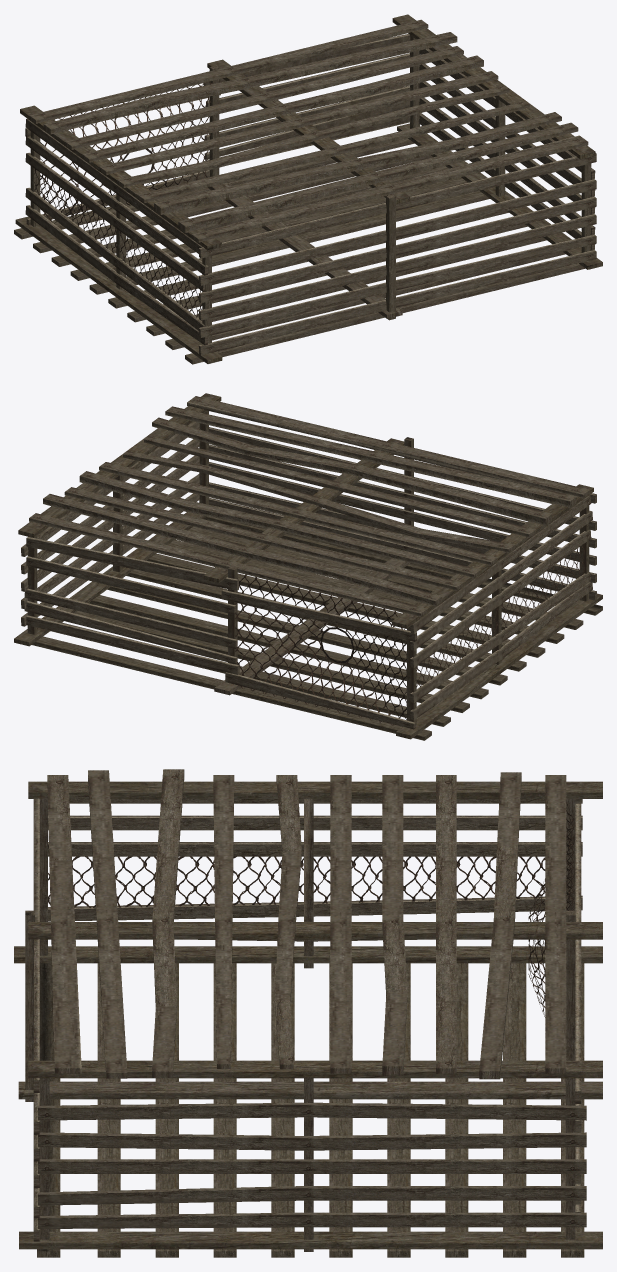
Rendered from lobser_trap_b.FBX.
3 renders of one model, top to bottom at view 1: azimuth 30°, elevation 25°; view 2: azimuth 150°, elevation 25°; view 3: azimuth 270°, elevation 25°, orthographic. The views are drawn at different scales.
Visible parts, largest first — view 1: lobser_trap_b; view 2: lobser_trap_b; view 3: lobser_trap_b.
Boxes of the visible parts, x1=… form: lobser_trap_b: x1=14, y1=14, x2=602, y2=364; lobser_trap_b: x1=14, y1=393, x2=602, y2=740; lobser_trap_b: x1=14, y1=769, x2=602, y2=1257.
Bounding box in the file's own units: 45.41 × 36.95 × 13.25.
